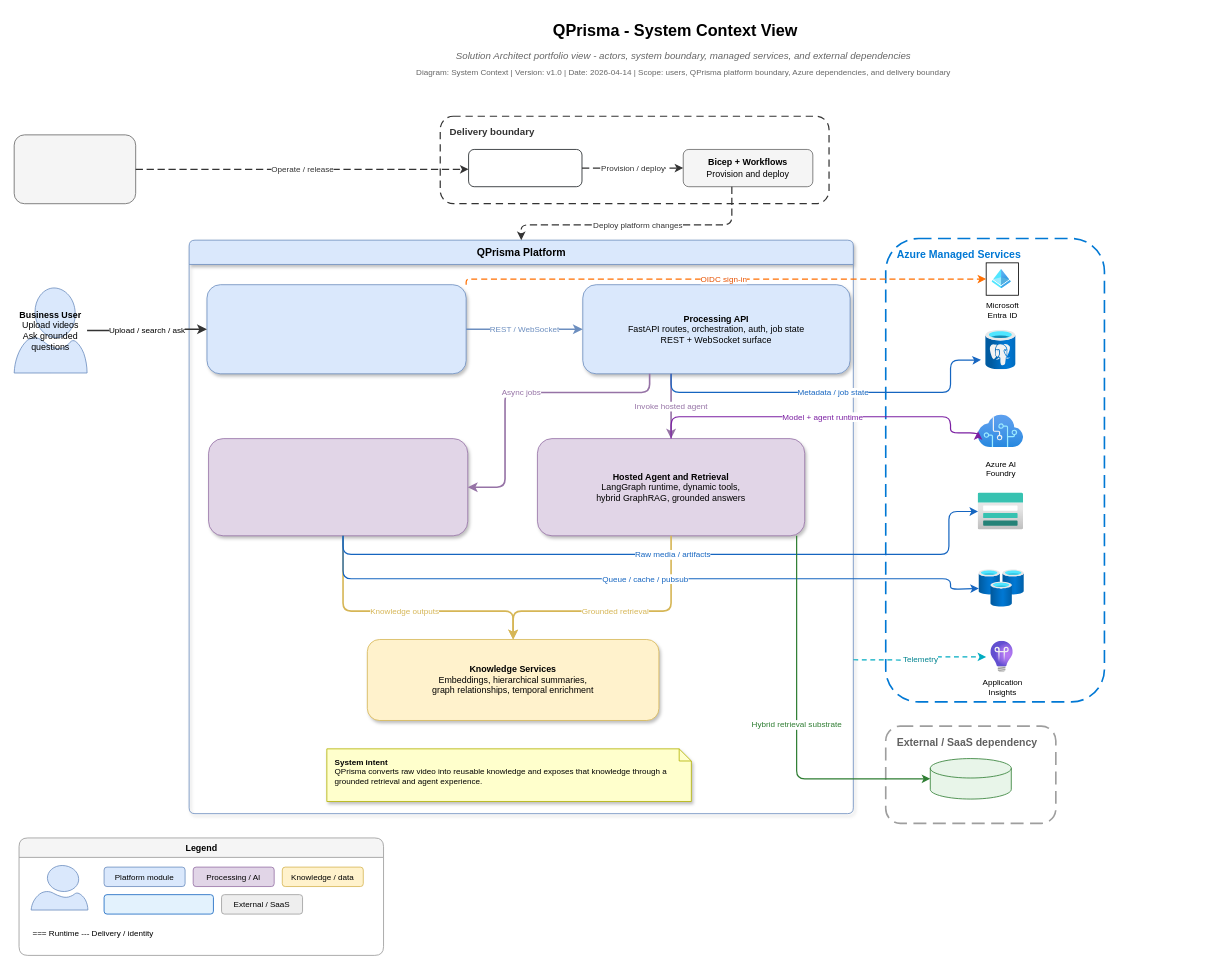
The diagram is 1216 pixels wide and 970 high, and some of its shapes have lost their labels. Each missing label, with the centre of its shape:
"Actor" goes at (x=59, y=887).
"Azure managed service" goes at (x=158, y=904).
"Blob Storage" goes at (x=1000, y=511).
"Neo4j AuraDB Knowledge graph" goes at (x=970, y=778).
"Platform Team Operate, secure, and release the platform" goes at (x=74, y=169).
"PostgreSQL Flex Server" goes at (x=1000, y=349).
"Redis Enterprise" goes at (x=1001, y=588).
"Video Worker Celery pipeline, frame/audio processing, graph indexing, enrichment" goes at (x=339, y=488).
"Web Experience Next.js 16 frontend Uploads, library, grounded chat UI" goes at (x=337, y=330).
